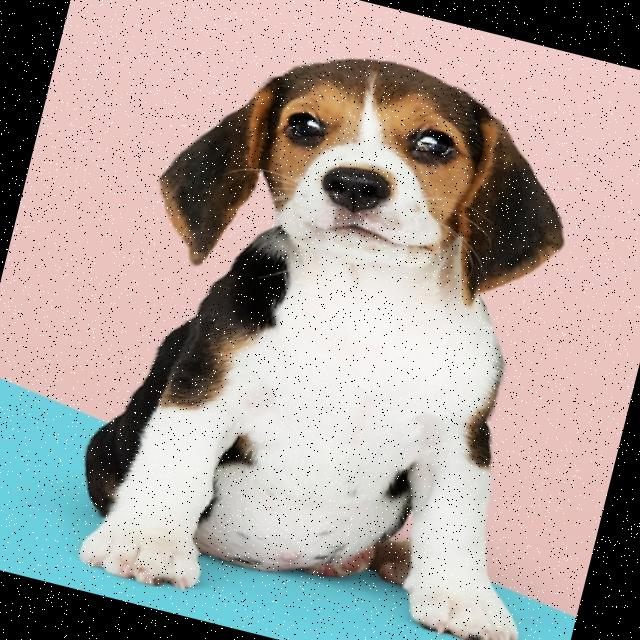Dog: (58, 12, 640, 640)
